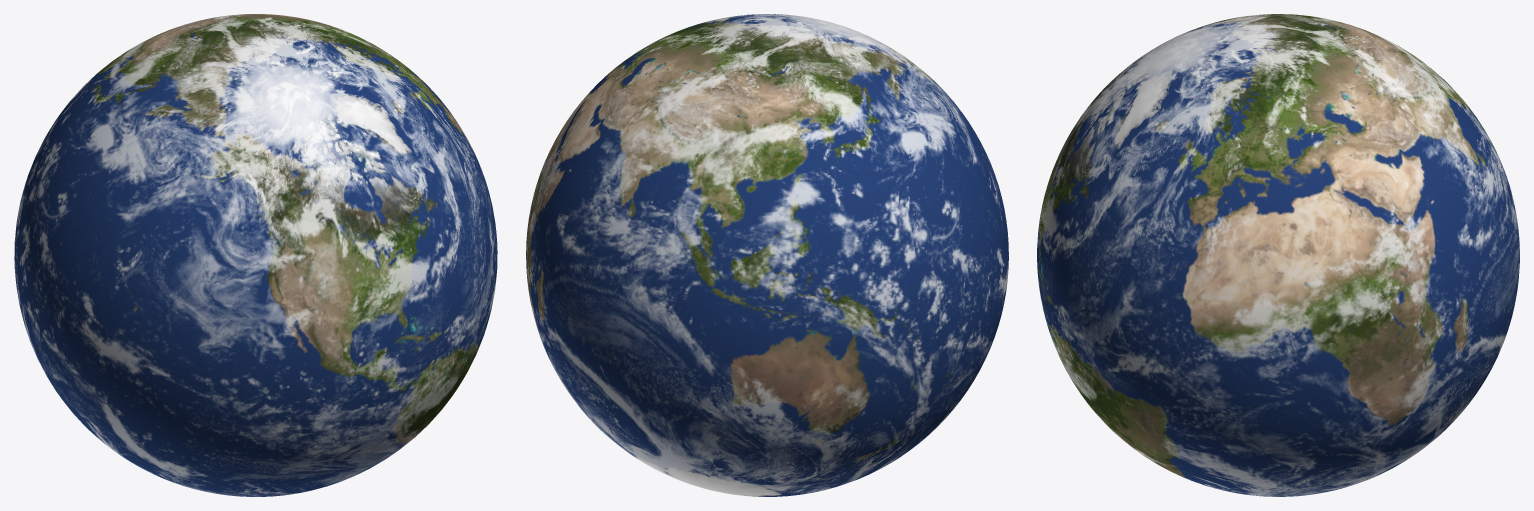
File: Earth.glb
3 renders of one model, left to right at view 1: azimuth 30°, elevation 25°; view 2: azimuth 150°, elevation 25°; view 3: azimuth 270°, elevation 25°, orthographic.
Visible parts, largest first — view 1: Earth; view 2: Earth; view 3: Earth.
Boxes of the visible parts, x1,y1,x2,y2 form: Earth: [14, 14, 497, 496]; Earth: [526, 14, 1008, 496]; Earth: [1037, 14, 1519, 496].
Bounding box in the file's own units: 2 × 2 × 2.
1 material, 1 textured.
